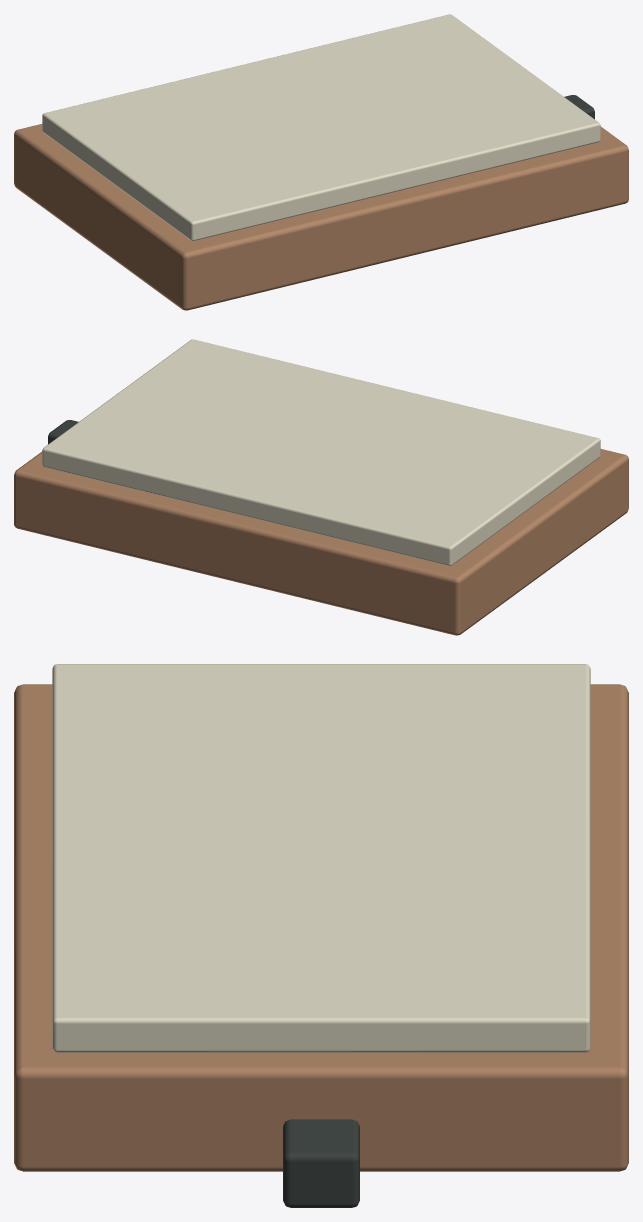
Rendered from creature-husbandry-and-transport-heated-stone-platform-12b74f47__24008.glb.
3 renders of one model, top to bottom at view 1: azimuth 30°, elevation 25°; view 2: azimuth 150°, elevation 25°; view 3: azimuth 270°, elevation 25°, orthographic. The views are drawn at different scales.
Visible parts, largest first — view 1: heated-stone-platform; view 2: heated-stone-platform; view 3: heated-stone-platform.
Part boxes in pixels (x1=…): heated-stone-platform: x1=14, y1=14, x2=628, y2=310; heated-stone-platform: x1=14, y1=339, x2=628, y2=635; heated-stone-platform: x1=14, y1=664, x2=628, y2=1207.
Bounding box in the file's own units: 1.31 × 0.2 × 0.8.
